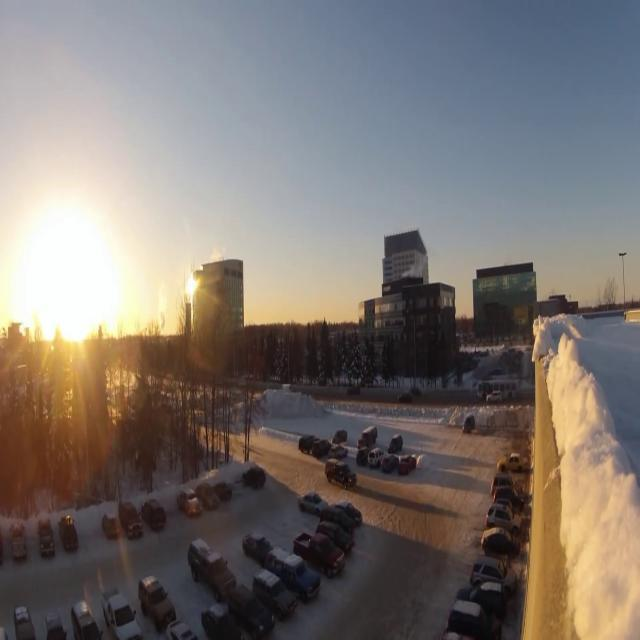Fire: (400, 253, 432, 280)
